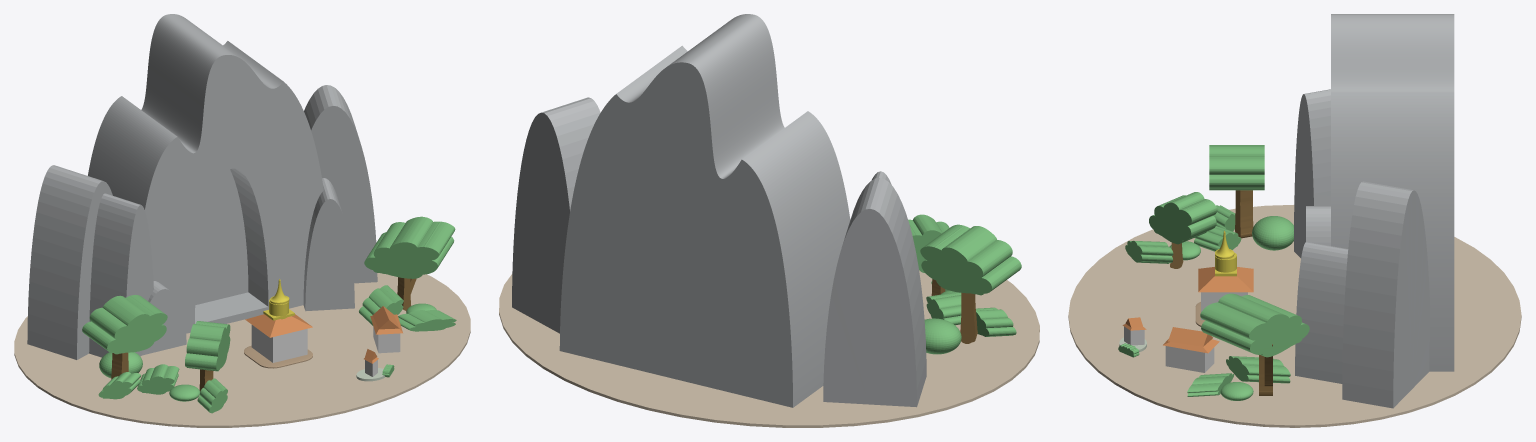
The model's file is Khao-Yoi.glb.
The picture shows the model from 3 angles, left to right: view 1: azimuth 30°, elevation 25°; view 2: azimuth 150°, elevation 25°; view 3: azimuth 270°, elevation 25°; orthographic projection. The views are drawn at different scales.
Visible parts, largest first — view 1: Mesh_Mesh_head_geo.001_lambert2SG.001; view 2: Mesh_Mesh_head_geo.001_lambert2SG.001; view 3: Mesh_Mesh_head_geo.001_lambert2SG.001.
Part boxes in pixels (x1,y1,x2,y2): Mesh_Mesh_head_geo.001_lambert2SG.001: (14, 14, 470, 427); Mesh_Mesh_head_geo.001_lambert2SG.001: (499, 14, 1039, 427); Mesh_Mesh_head_geo.001_lambert2SG.001: (1068, 14, 1521, 427).
Bounding box in the file's own units: 0.189 × 0.12 × 0.164.
